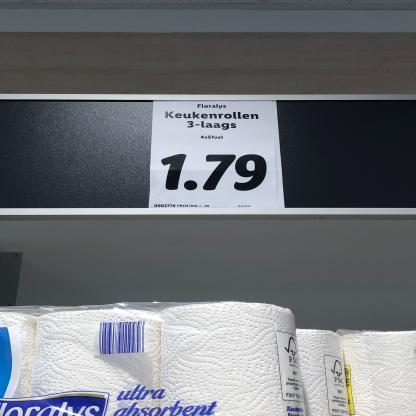prtg: (150, 102, 280, 210)
